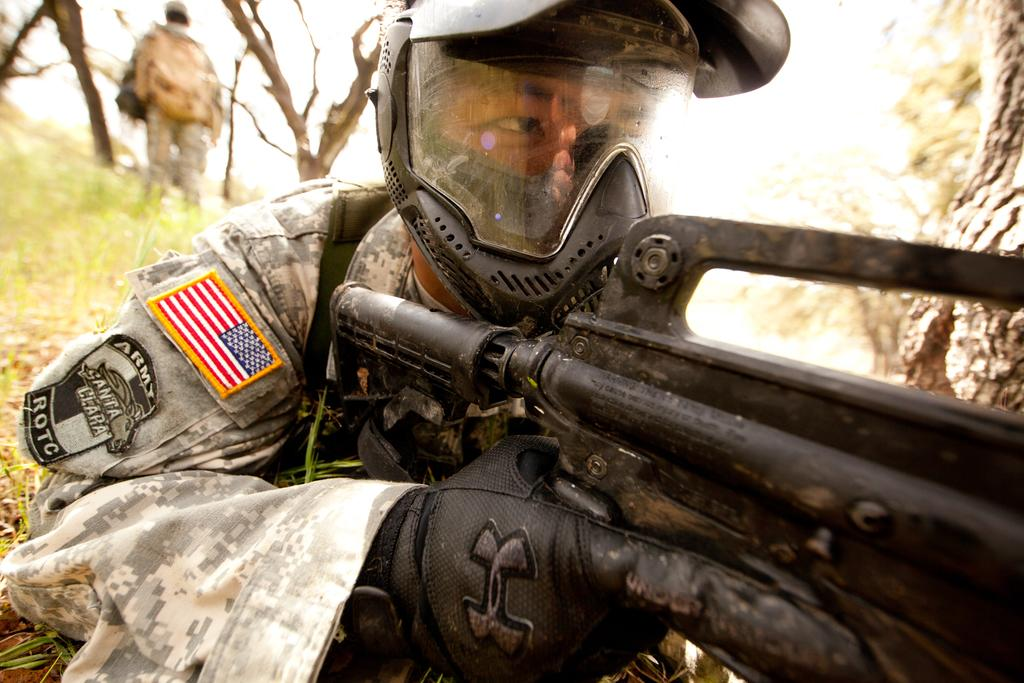Rifle: (326, 210, 1023, 682)
